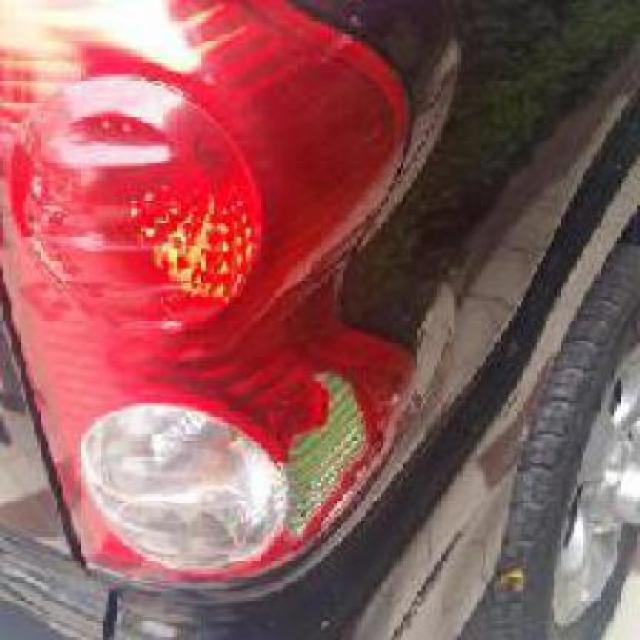damaged-tail-light: (0, 0, 395, 586)
